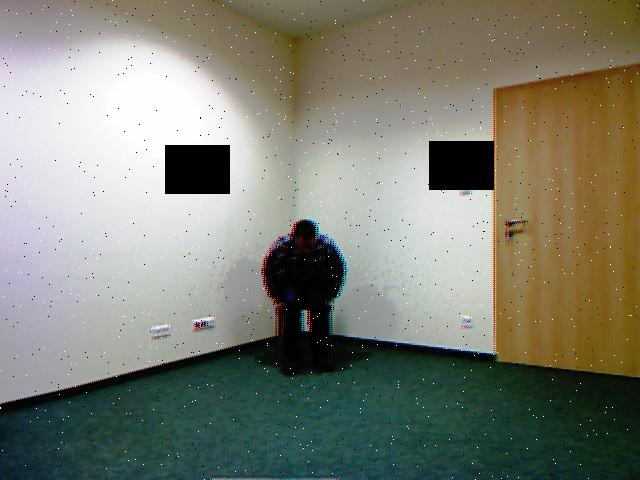bending: (256, 195, 358, 390)
